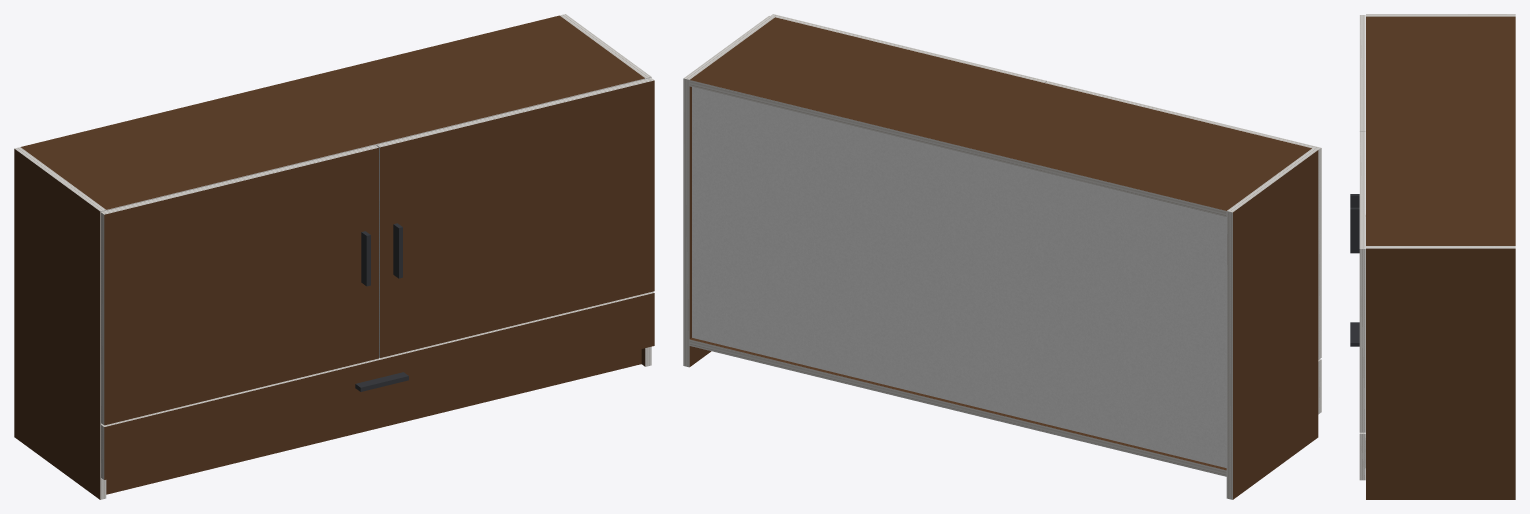
File: ATL-SDB-std.glb
The picture shows the model from 3 angles, left to right: view 1: azimuth 30°, elevation 25°; view 2: azimuth 150°, elevation 25°; view 3: azimuth 270°, elevation 25°; orthographic projection. The views are drawn at different scales.
Parts seen in each view (by area): view 1: door-l:pbr, door-r:pbr, top:pbr, d1-front:pbr, side-l:pbr, plinth:pbr, pull, d1-front:sheet:eyJtIjoicGx5Iiwic2lkZSI6ImVkZ2UtbG9uZyIsInNlZ, door-l:sheet:eyJtIjoicGx5Iiwic2lkZSI6ImVkZ2UtbG9uZyIsInNlZWQ, door-r:sheet:eyJtIjoicGx5Iiwic2lkZSI6ImVkZ2UtbG9uZyIsInNlZWQ, top:sheet:eyJtIjoicGx5Iiwic2lkZSI6ImVkZ2UtbG9uZyIsInNlZWQiOj, door-l:sheet:eyJtIjoicGx5Iiwic2lkZSI6ImVkZ2UtZW5kIiwic2VlZCI; view 2: back:sheet:eyJtIjoibWRmIiwic2lkZSI6ImZhY2UiLCJzZWVkIjoyLCJ0a, top:pbr, side-l:pbr, bottom:sheet:eyJtIjoicGx5Iiwic2lkZSI6ImVkZ2UtbG9uZyIsInNlZWQ, top:sheet:eyJtIjoicGx5Iiwic2lkZSI6ImVkZ2UtbG9uZyIsInNlZWQiOj, side-r:sheet:eyJtIjoicGx5Iiwic2lkZSI6ImVkZ2UtbG9uZyIsInNlZWQ, side-l:sheet:eyJtIjoicGx5Iiwic2lkZSI6ImVkZ2UtbG9uZyIsInNlZWQ, bottom:pbr, side-r:pbr, door-l:sheet:eyJtIjoicGx5Iiwic2lkZSI6ImVkZ2UtbG9uZyIsInNlZWQ, door-r:sheet:eyJtIjoicGx5Iiwic2lkZSI6ImVkZ2UtbG9uZyIsInNlZWQ, door-l:sheet:eyJtIjoicGx5Iiwic2lkZSI6ImVkZ2UtZW5kIiwic2VlZCI; view 3: side-r:pbr, top:pbr, door-r:sheet:eyJtIjoicGx5Iiwic2lkZSI6ImVkZ2UtZW5kIiwic2VlZCI, pull, door-l:sheet:eyJtIjoicGx5Iiwic2lkZSI6ImVkZ2UtbG9uZyIsInNlZWQ, door-r:sheet:eyJtIjoicGx5Iiwic2lkZSI6ImVkZ2UtbG9uZyIsInNlZWQ, side-l:sheet:eyJtIjoicGx5Iiwic2lkZSI6ImVkZ2UtZW5kIiwic2VlZCI, side-r:sheet:eyJtIjoicGx5Iiwic2lkZSI6ImVkZ2UtZW5kIiwic2VlZCI, d1-front:sheet:eyJtIjoicGx5Iiwic2lkZSI6ImVkZ2UtZW5kIiwic2VlZ, d1-box-front:sheet:eyJtIjoicGx5Iiwic2lkZSI6ImVkZ2UtbG9uZyIsI.
Boxes of the visible parts, x1=… form: door-l:pbr: x1=104, y1=147, x2=378, y2=425; door-r:pbr: x1=380, y1=80, x2=654, y2=357; top:pbr: x1=21, y1=15, x2=644, y2=209; d1-front:pbr: x1=104, y1=293, x2=654, y2=479; side-l:pbr: x1=14, y1=149, x2=100, y2=499; plinth:pbr: x1=106, y1=349, x2=641, y2=494; pull: x1=355, y1=223, x2=408, y2=391; d1-front:sheet:eyJtIjoicGx5Iiwic2lkZSI6ImVkZ2UtbG9uZyIsInNlZ: x1=101, y1=291, x2=654, y2=426; door-l:sheet:eyJtIjoicGx5Iiwic2lkZSI6ImVkZ2UtbG9uZyIsInNlZWQ: x1=101, y1=145, x2=378, y2=214; door-r:sheet:eyJtIjoicGx5Iiwic2lkZSI6ImVkZ2UtbG9uZyIsInNlZWQ: x1=377, y1=78, x2=654, y2=147; top:sheet:eyJtIjoicGx5Iiwic2lkZSI6ImVkZ2UtbG9uZyIsInNlZWQiOj: x1=106, y1=78, x2=645, y2=210; door-l:sheet:eyJtIjoicGx5Iiwic2lkZSI6ImVkZ2UtZW5kIiwic2VlZCI: x1=101, y1=212, x2=104, y2=424; back:sheet:eyJtIjoibWRmIiwic2lkZSI6ImZhY2UiLCJzZWVkIjoyLCJ0a: x1=692, y1=87, x2=1226, y2=467; top:pbr: x1=690, y1=17, x2=1311, y2=210; side-l:pbr: x1=1233, y1=150, x2=1318, y2=499; bottom:sheet:eyJtIjoicGx5Iiwic2lkZSI6ImVkZ2UtbG9uZyIsInNlZWQ: x1=689, y1=339, x2=1226, y2=476; top:sheet:eyJtIjoicGx5Iiwic2lkZSI6ImVkZ2UtbG9uZyIsInNlZWQiOj: x1=689, y1=80, x2=1226, y2=217; side-r:sheet:eyJtIjoicGx5Iiwic2lkZSI6ImVkZ2UtbG9uZyIsInNlZWQ: x1=683, y1=78, x2=689, y2=367; side-l:sheet:eyJtIjoicGx5Iiwic2lkZSI6ImVkZ2UtbG9uZyIsInNlZWQ: x1=1226, y1=211, x2=1232, y2=499; bottom:pbr: x1=690, y1=338, x2=1226, y2=470; side-r:pbr: x1=689, y1=86, x2=711, y2=366; door-l:sheet:eyJtIjoicGx5Iiwic2lkZSI6ImVkZ2UtbG9uZyIsInNlZWQ: x1=1045, y1=81, x2=1321, y2=149; door-r:sheet:eyJtIjoicGx5Iiwic2lkZSI6ImVkZ2UtbG9uZyIsInNlZWQ: x1=771, y1=14, x2=1046, y2=82; door-l:sheet:eyJtIjoicGx5Iiwic2lkZSI6ImVkZ2UtZW5kIiwic2VlZCI: x1=1318, y1=148, x2=1321, y2=359; side-r:pbr: x1=1366, y1=248, x2=1515, y2=499; top:pbr: x1=1366, y1=16, x2=1515, y2=245; door-r:sheet:eyJtIjoicGx5Iiwic2lkZSI6ImVkZ2UtZW5kIiwic2VlZCI: x1=1359, y1=249, x2=1365, y2=432; pull: x1=1350, y1=194, x2=1359, y2=346; door-l:sheet:eyJtIjoicGx5Iiwic2lkZSI6ImVkZ2UtbG9uZyIsInNlZWQ: x1=1359, y1=15, x2=1365, y2=131; door-r:sheet:eyJtIjoicGx5Iiwic2lkZSI6ImVkZ2UtbG9uZyIsInNlZWQ: x1=1359, y1=132, x2=1365, y2=248; side-l:sheet:eyJtIjoicGx5Iiwic2lkZSI6ImVkZ2UtZW5kIiwic2VlZCI: x1=1366, y1=14, x2=1515, y2=16; side-r:sheet:eyJtIjoicGx5Iiwic2lkZSI6ImVkZ2UtZW5kIiwic2VlZCI: x1=1366, y1=246, x2=1515, y2=248; d1-front:sheet:eyJtIjoicGx5Iiwic2lkZSI6ImVkZ2UtZW5kIiwic2VlZ: x1=1359, y1=434, x2=1365, y2=480; d1-box-front:sheet:eyJtIjoicGx5Iiwic2lkZSI6ImVkZ2UtbG9uZyIsI: x1=1365, y1=217, x2=1365, y2=437.
Size of the model in its own units: 1.6 by 0.8 by 0.4769.
Materials: 55 (42 with a texture image).
